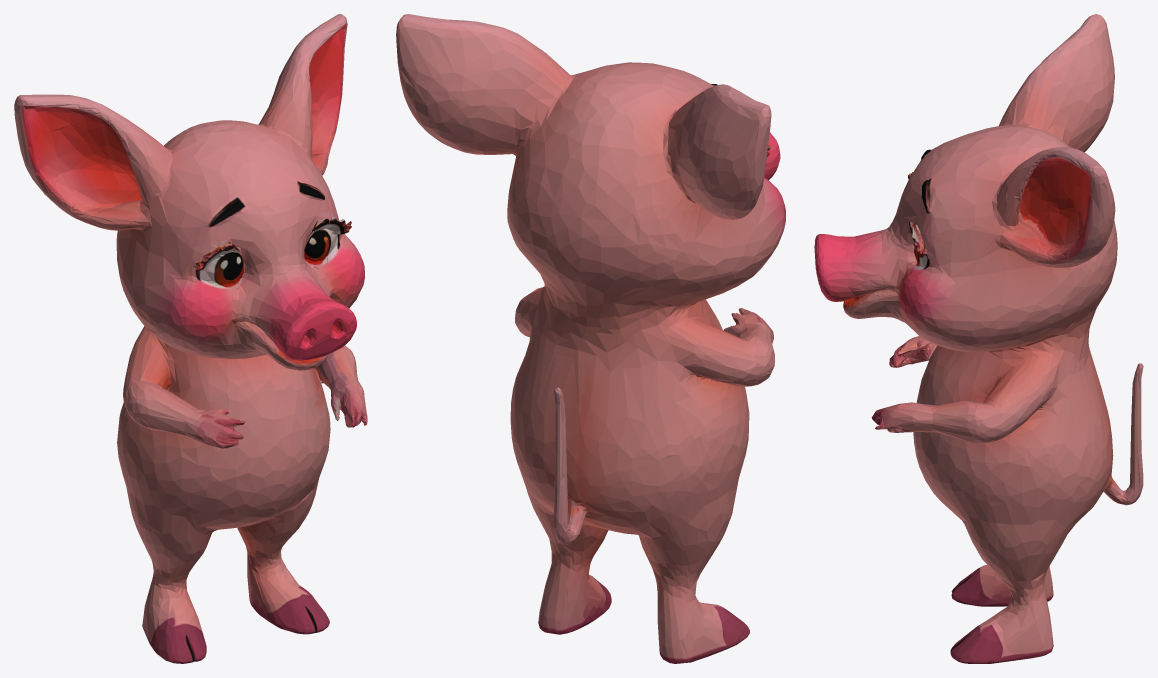
The model's file is npc_pig.glb.
3 views of the same model, side by side, from view 1: azimuth 30°, elevation 25°; view 2: azimuth 150°, elevation 25°; view 3: azimuth 270°, elevation 25° (orthographic). The views are drawn at different scales.
Visible parts, largest first — view 1: textured_mesh.obj; view 2: textured_mesh.obj; view 3: textured_mesh.obj.
Part boxes in pixels (x1=…): textured_mesh.obj: x1=14, y1=14, x2=367, y2=663; textured_mesh.obj: x1=396, y1=14, x2=785, y2=663; textured_mesh.obj: x1=814, y1=14, x2=1143, y2=663.
Bounding box in the file's own units: 1.27 × 1.99 × 1.11.
1 material, 1 textured.
